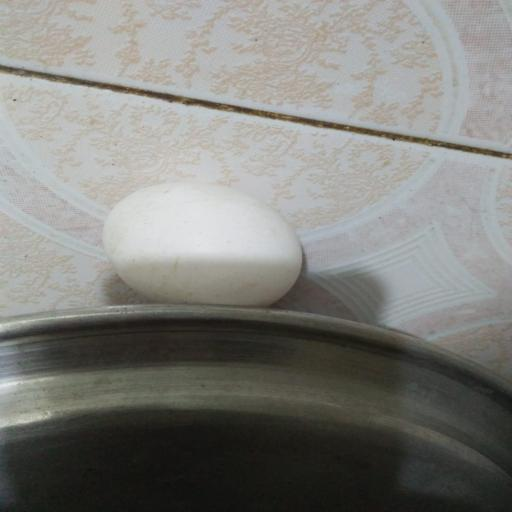telur: (100, 180, 308, 312)
